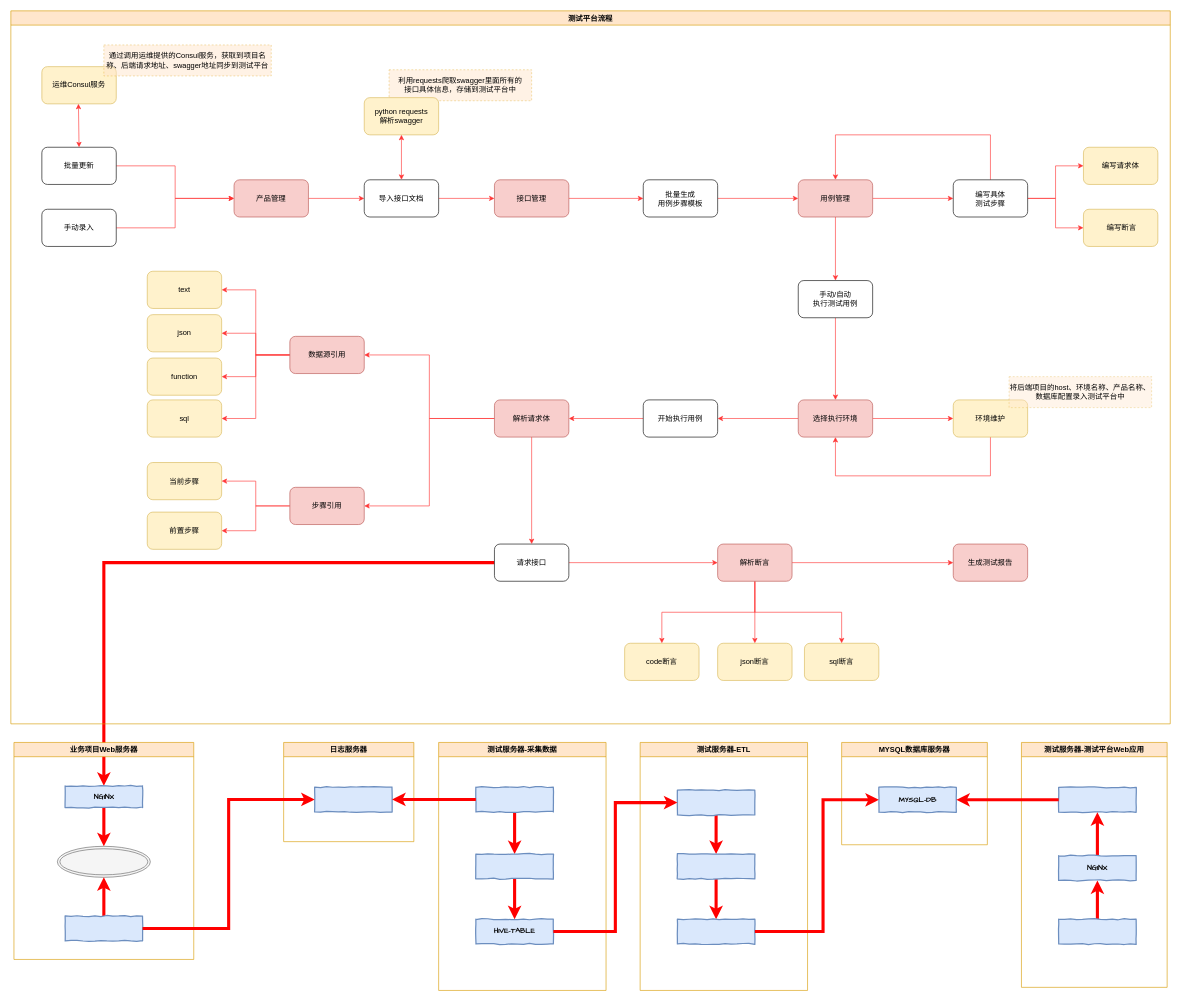
The diagram is 1181 pixels wide and 1001 high, and some of its shapes have lost their labels. The shapes that lost their labels are listed below. From the top down, each one's centre as x and y in pixels, then its label:
At point (353, 799): "Kafka".
At point (514, 799): "Logstash".
At point (715, 802): "HIVE-SQL".
At point (1097, 799): "测试平台服务".
At point (103, 861): "/var/log/nginx/access.log".
At point (514, 866): "HDFS".
At point (715, 866): "HIVE-RESULT".
At point (103, 928): "FileBeat".
At point (715, 931): "SQOOP".
At point (1097, 931): "测试平台应用".
